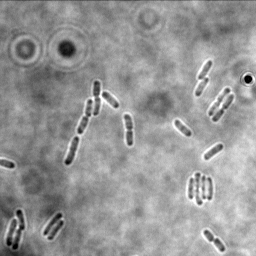Dividing: (211, 92, 236, 123), (207, 86, 231, 116), (77, 98, 94, 135), (203, 228, 226, 253), (64, 136, 81, 166), (91, 79, 102, 117), (123, 113, 135, 147)
Microcolony: (187, 170, 214, 206)
Rod: (42, 211, 63, 236), (202, 142, 225, 161), (5, 217, 19, 247), (47, 219, 65, 242), (173, 118, 193, 137), (197, 59, 214, 80), (193, 76, 210, 97), (101, 90, 119, 109), (11, 229, 23, 252), (15, 208, 27, 231)
